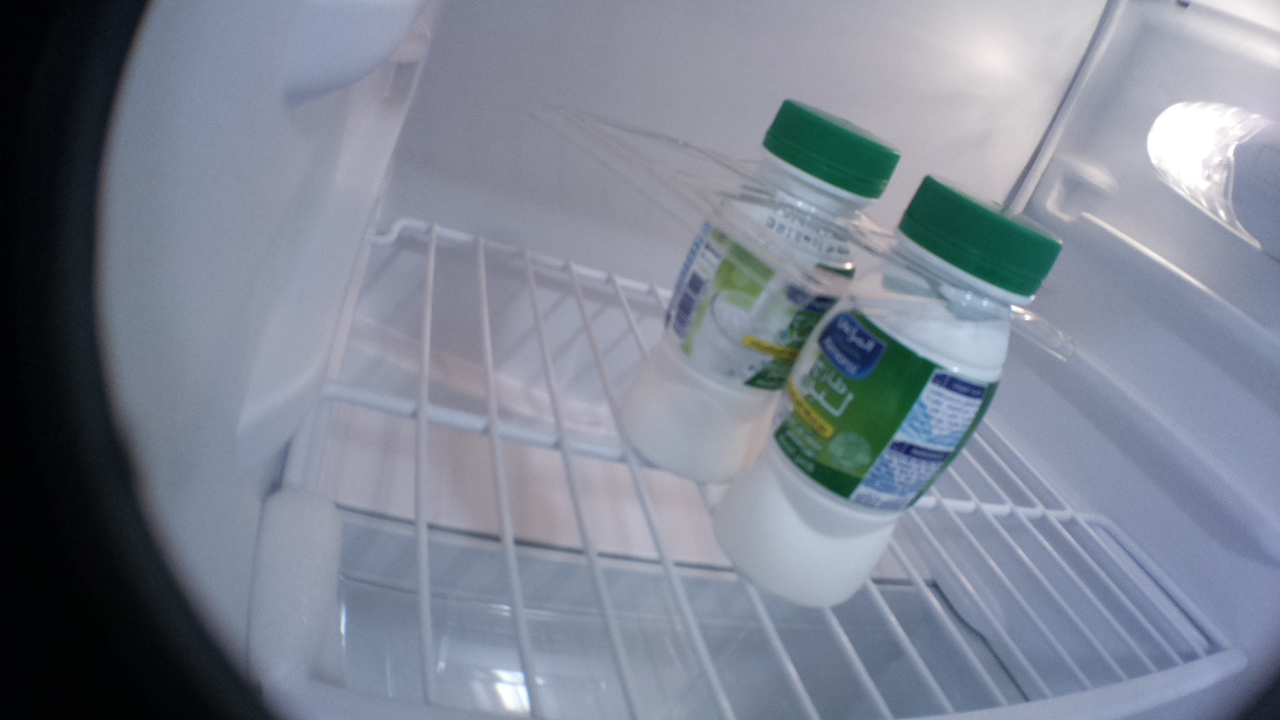laban: (707, 168, 1065, 609), (622, 98, 904, 485)
